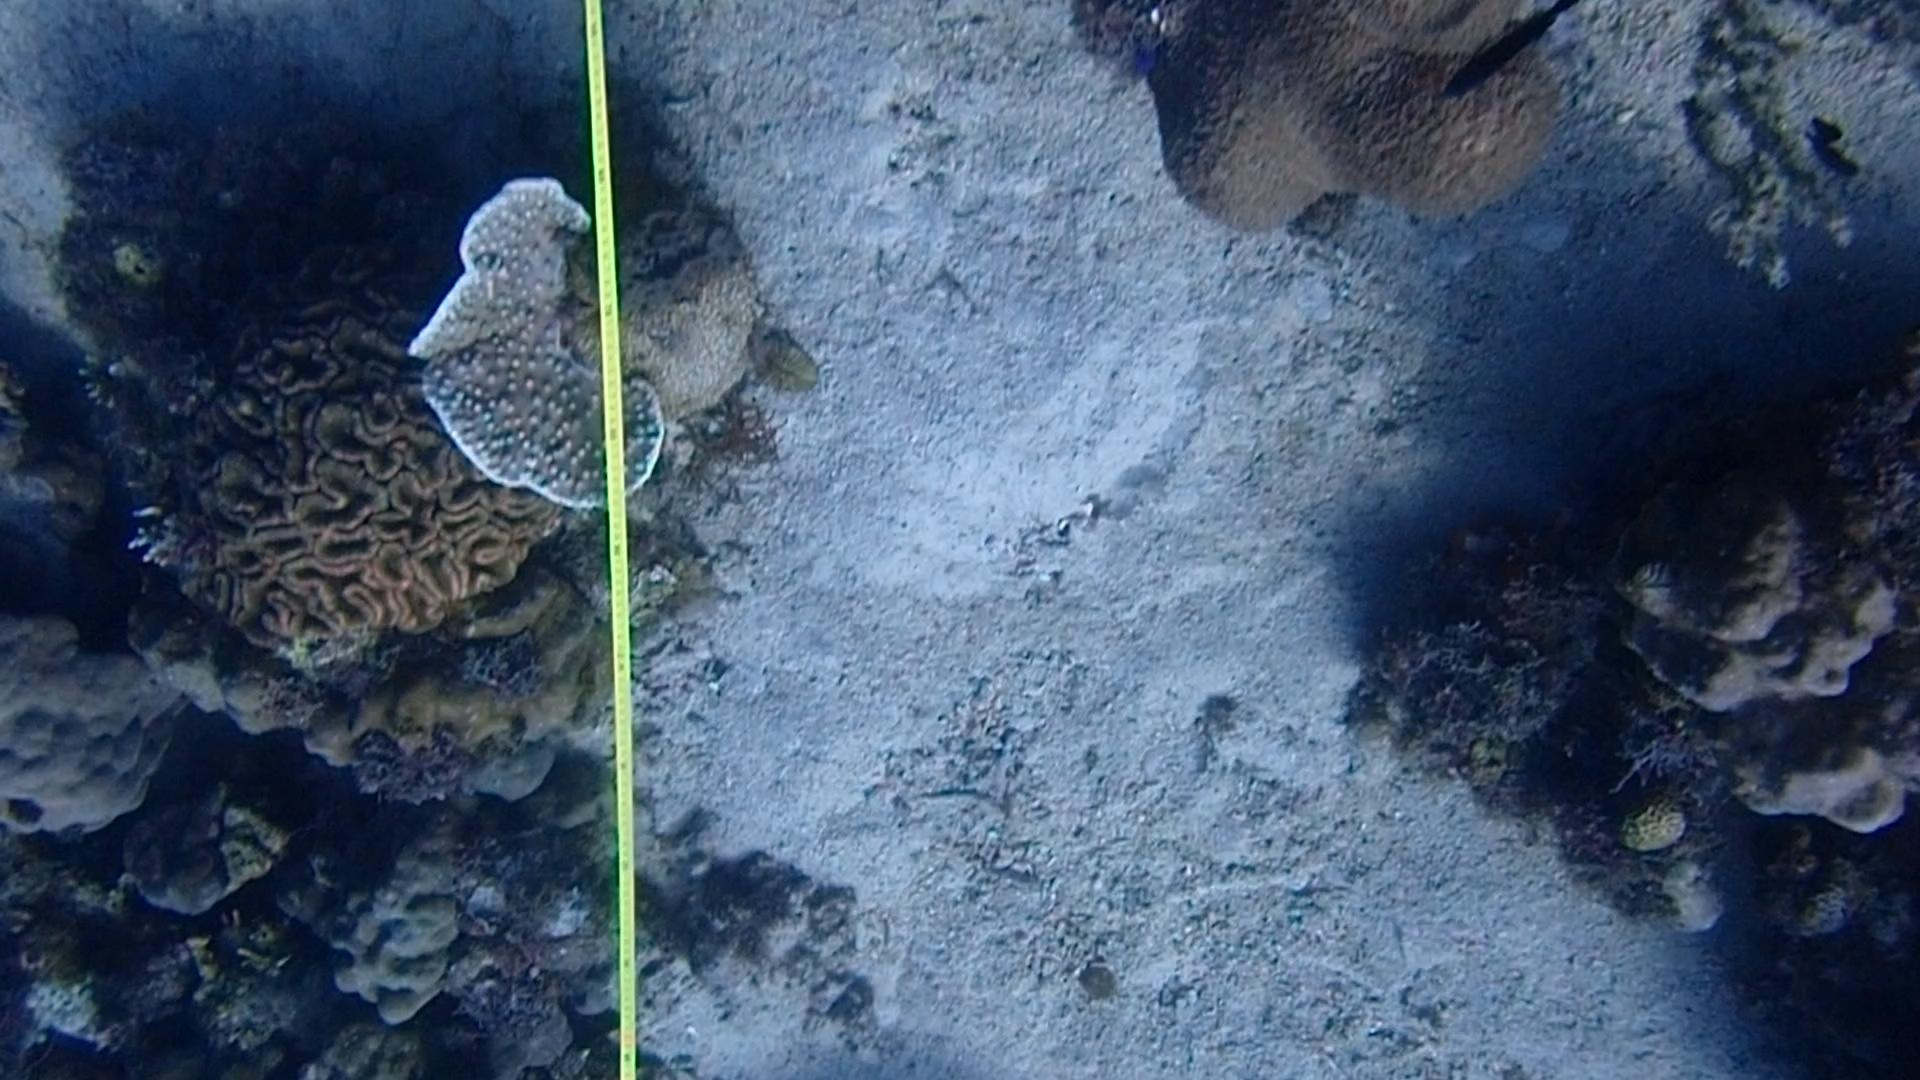Dark Fish: (1452, 0, 1594, 116), (1795, 99, 1878, 190)
